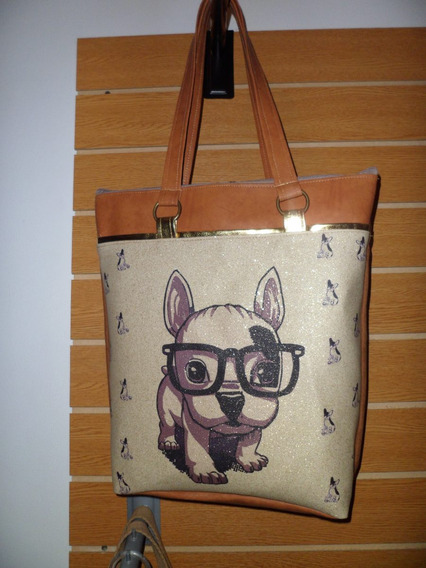cartera: (94, 3, 382, 524)
